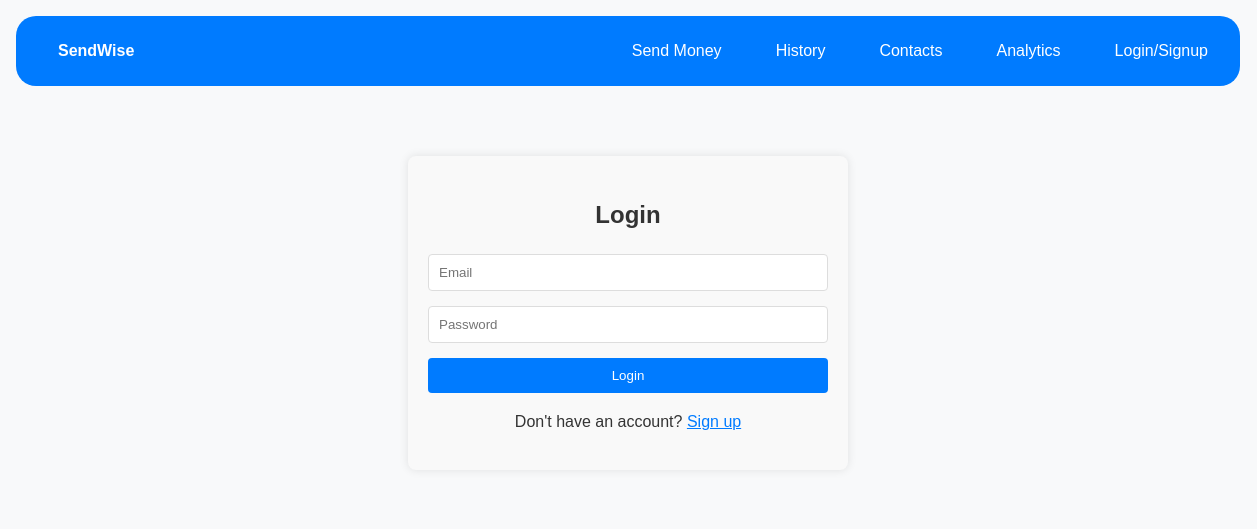
Test case: Login Page › should display an error message on login failure
Type "wrongalice@example.com" into the field with placeholder "Email" at (628, 273), box x1=428 y1=254 x2=828 y2=291
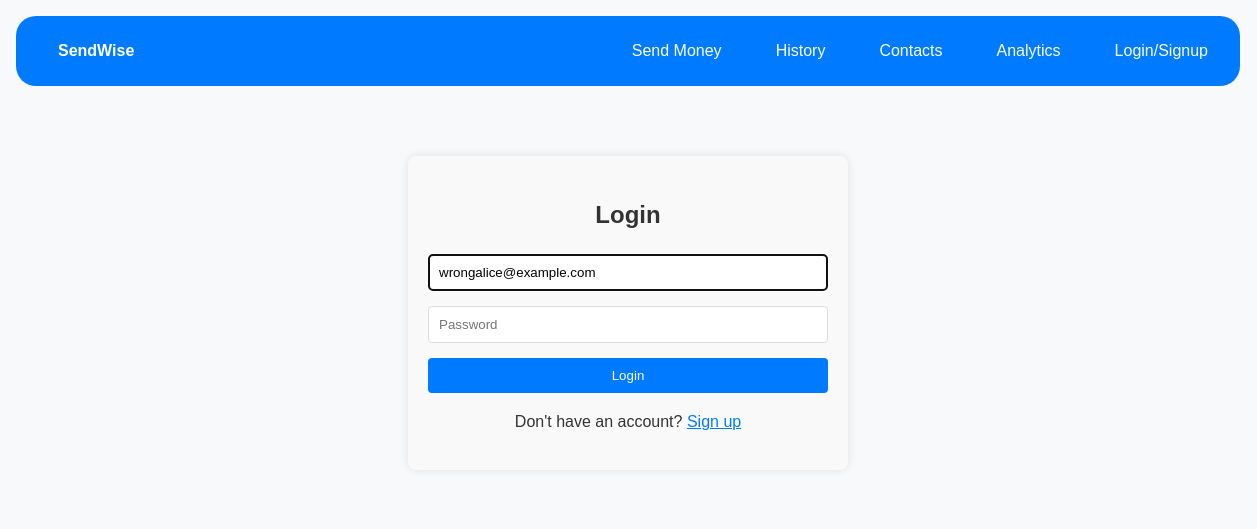
Type "wrongpassword" into the password field with placeholder "Password" at (628, 325), box x1=428 y1=306 x2=828 y2=343
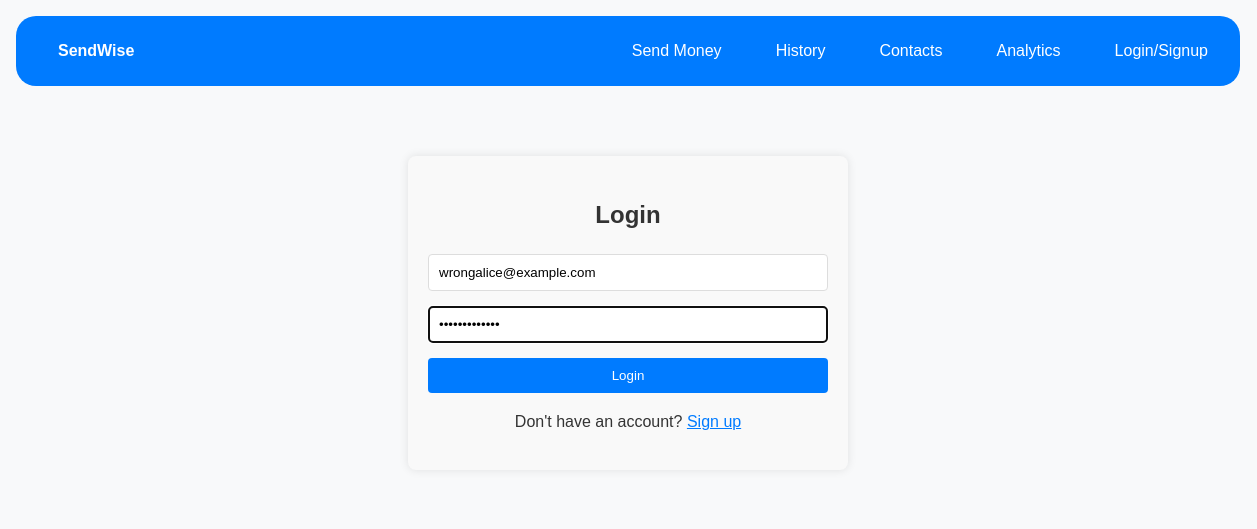
Click the submit button at (628, 376), box x1=428 y1=358 x2=828 y2=393
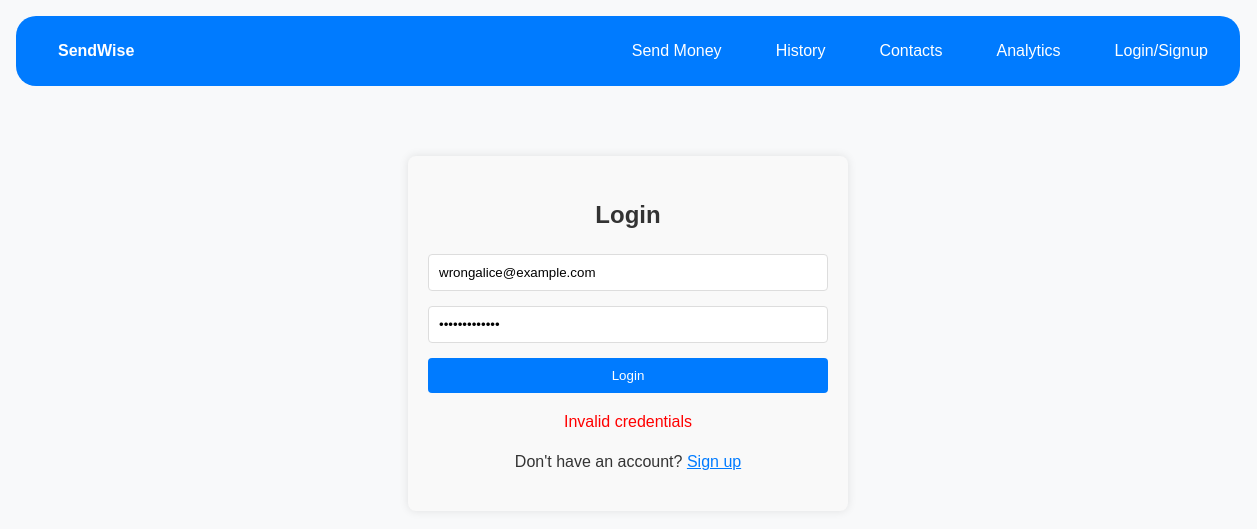
Now the text with test id "error-message" reads "Invalid credentials", box x1=564 y1=413 x2=692 y2=430
